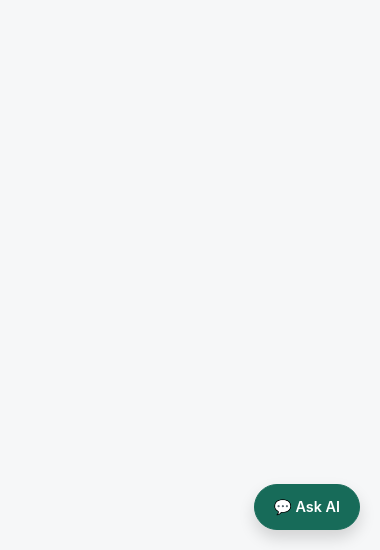
it: ChatAssistant › shows the server's error message, and doesn't send errors back as history
Later steps or results of the test are not shown.
Click the button "💬 Ask AI" at (307, 507), box [254,484,360,530]
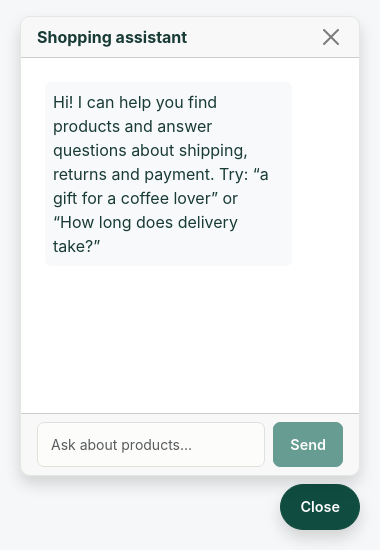
Type "Hello?" into the field named "Message the shopping assistant" at (151, 445), box [37,422,265,467]
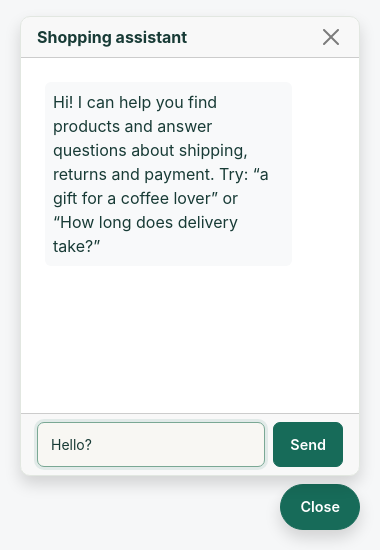
Click the button "Send" at (308, 445), box [273,422,343,467]
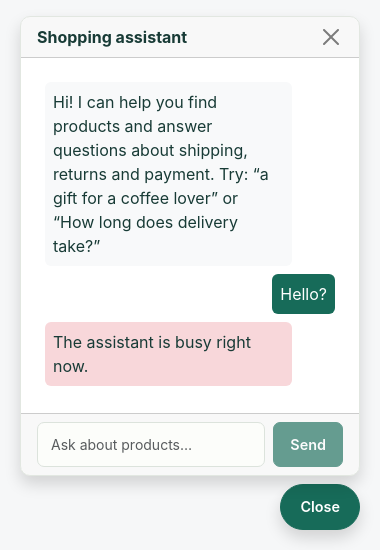
Expected: the text "The assistant is busy right now." is shown, [45,322,292,386]
